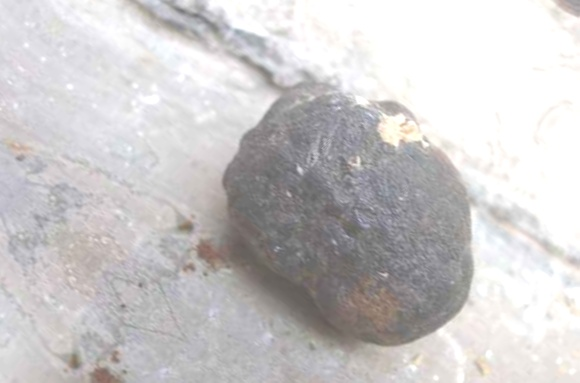halobolite: (178, 35, 547, 383)
